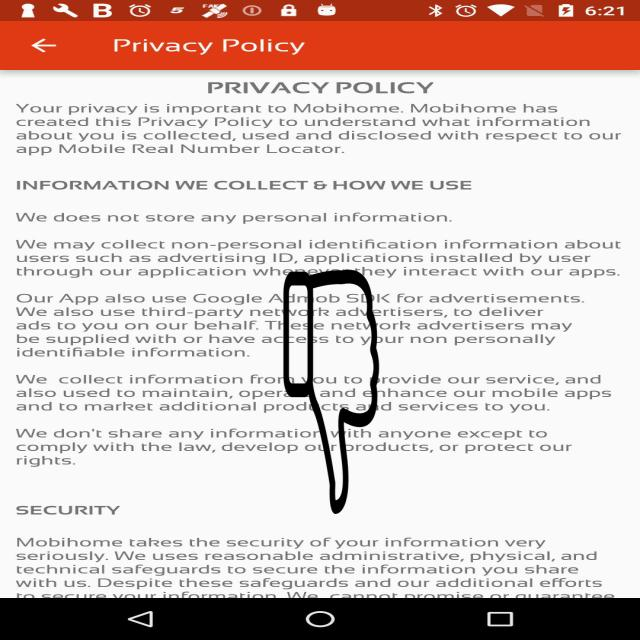obstruction: (282, 270, 381, 514)
